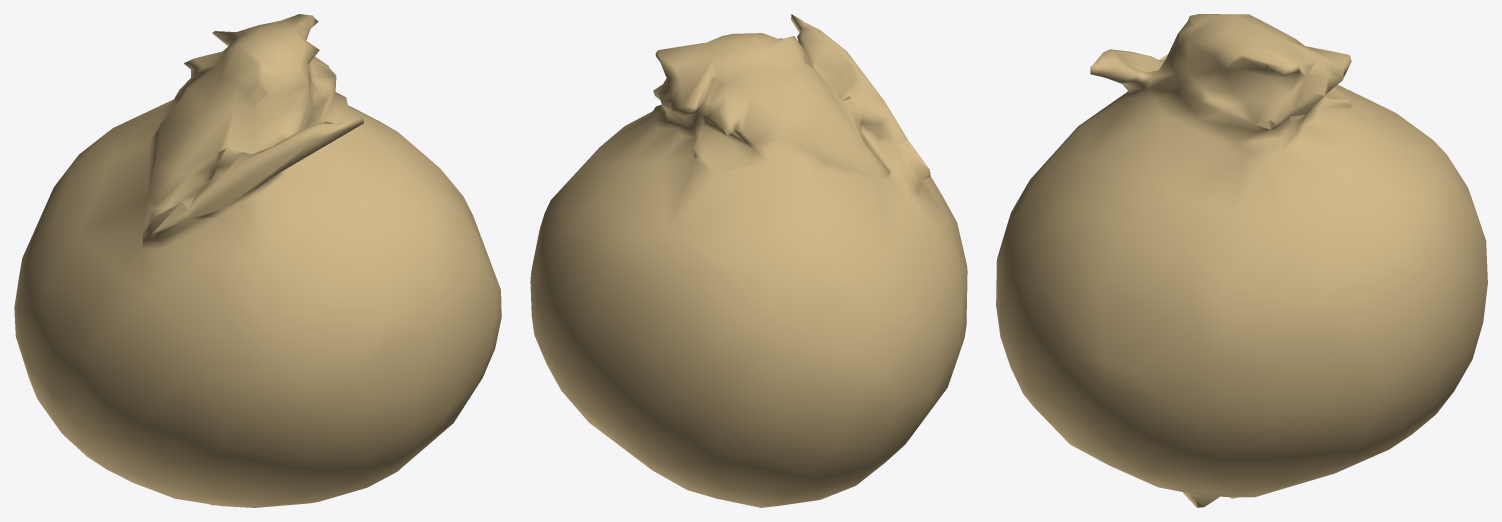
Rendered from cebola.fbx.
3 views of the same model, side by side, from view 1: azimuth 30°, elevation 25°; view 2: azimuth 150°, elevation 25°; view 3: azimuth 270°, elevation 25° (orthographic). The views are drawn at different scales.
Parts seen in each view (by area): view 1: 19_onion1; view 2: 19_onion1; view 3: 19_onion1.
Boxes of the visible parts, x1,y1,x2,y2 form: 19_onion1: [14, 14, 501, 507]; 19_onion1: [530, 14, 967, 507]; 19_onion1: [996, 14, 1487, 507].
Size of the model in its own units: 93.23 by 102 by 95.2.
